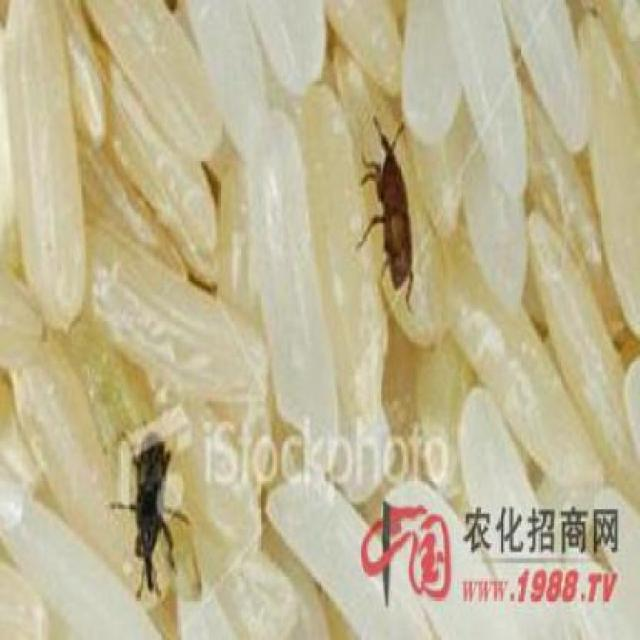rice-bug: (369, 117, 420, 300), (134, 426, 183, 594)
